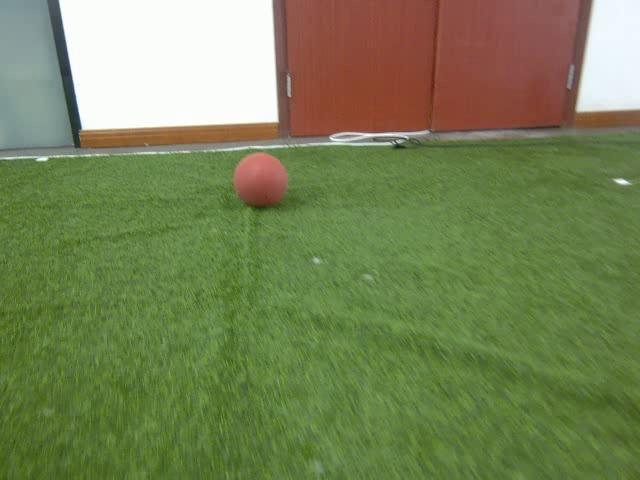red_ball: (234, 150, 290, 209)
